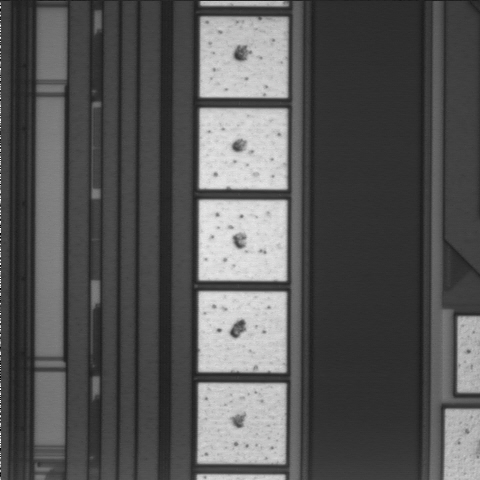pad: (199, 200, 287, 281), (198, 383, 286, 464), (200, 17, 287, 98), (199, 109, 287, 189), (199, 292, 286, 372)
